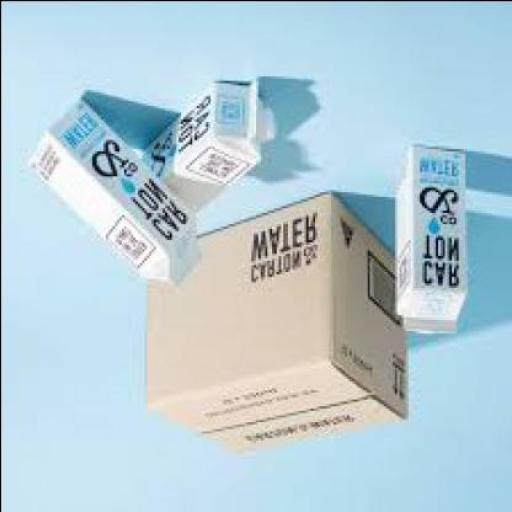cardboard: (144, 196, 405, 455), (25, 97, 195, 289), (139, 78, 271, 216), (391, 145, 462, 335)
